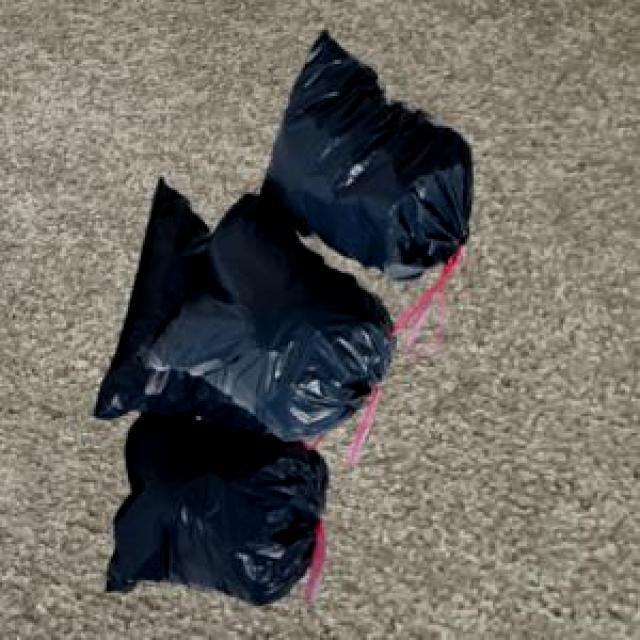Trashbag: (174, 217, 388, 427), (106, 410, 314, 610), (289, 41, 468, 272)
